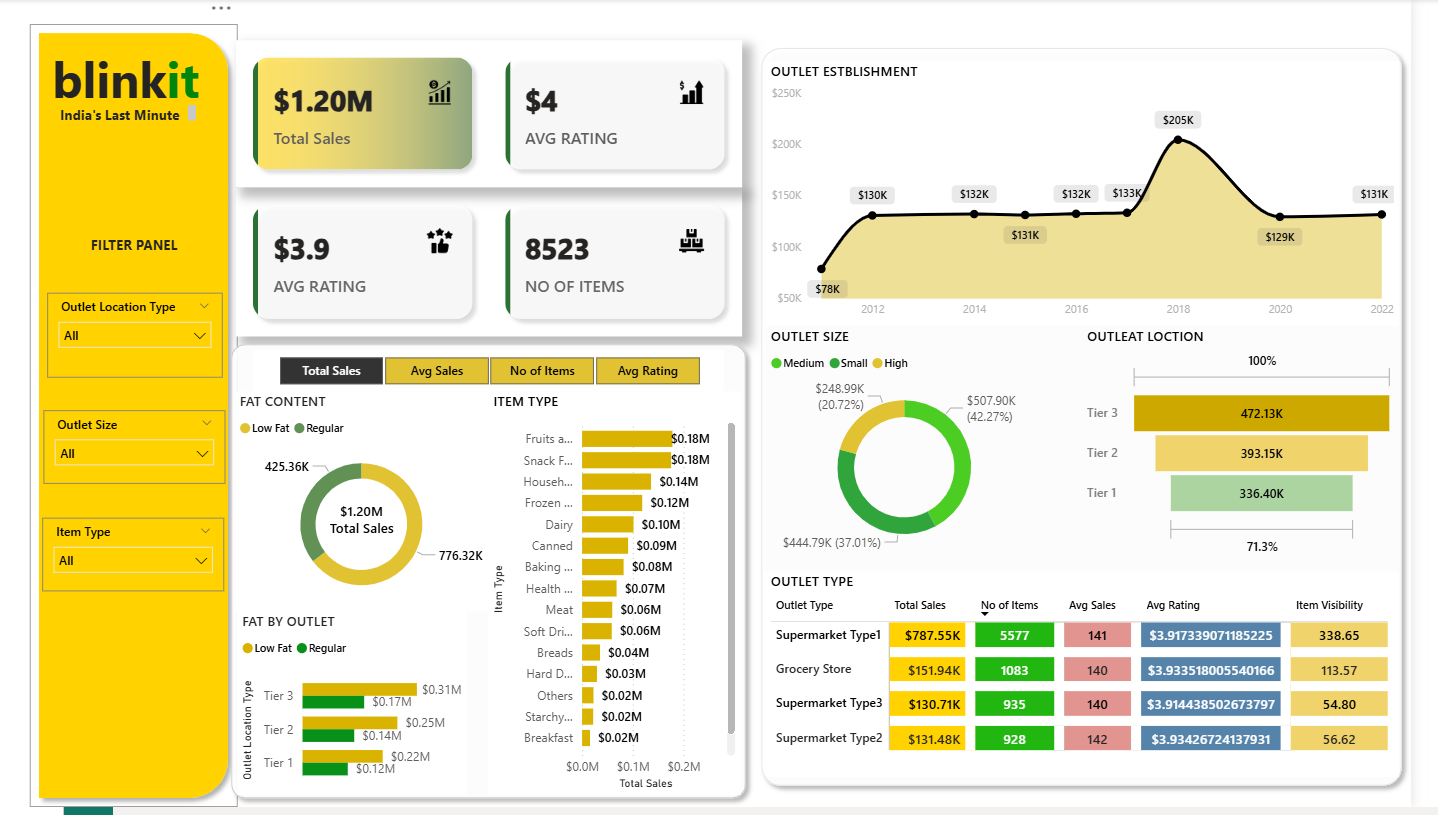

Layout of this report page (visuals, bound fields, positions):
{"tool":"powerbi","page":{"name":"Page 1","canvas":[1400,800],"ordinal":0},"visuals":[{"type":"shape","box":[33.1,25.2,205.1,774.8],"z":0},{"type":"textbox","box":[51.1,40.6,173,86.5],"z":1000},{"type":"textbox","box":[51.1,99.6,152.1,27.5],"z":2000},{"type":"cardVisual","fields":{"Data":["BlinkIT Grocery Data.Avg Rating","BlinkIT Grocery Data.No of Items"]},"box":[237.5,186.8,500.9,147.2],"z":3000},{"type":"cardVisual","fields":{"Data":["BlinkIT Grocery Data.Total Sales","BlinkIT Grocery Data.Avg Rating"]},"box":[237.5,40.8,500.9,145.9],"z":4000},{"type":"shape","box":[224.1,333,527.1,467.1],"z":5000},{"type":"donutChart","title":"FAT CONTENT","fields":{"Y":["Sum(BlinkIT Grocery Data.Sales)"],"Category":["BlinkIT Grocery Data.Item Fat Content"]},"box":[236.7,388.2,250.9,217.8],"z":6000},{"type":"slicer","fields":{"Values":["Matrics.Matrics"]},"box":[254.3,347.4,465.4,40.6],"z":7000},{"type":"cardVisual","fields":{"Data":["BlinkIT Grocery Data.Total Sales"]},"box":[312.9,479.9,98.9,69.3],"z":8000},{"type":"clusteredBarChart","title":"FAT BY OUTLET","fields":{"Y":["BlinkIT Grocery Data.Total Sales"],"Category":["BlinkIT Grocery Data.Outlet Location Type"],"Series":["BlinkIT Grocery Data.Item Fat Content"]},"box":[238.3,606,227.2,181.5],"z":9000},{"type":"barChart","title":"ITEM TYPE","fields":{"Y":["BlinkIT Grocery Data.Total Sales"],"Category":["BlinkIT Grocery Data.Item Type"]},"box":[487.6,388.2,249.3,399.2],"z":10000},{"type":"shape","box":[748,39.5,651.7,748],"z":11000},{"type":"lineChart","title":"OUTLET ESTBLISHMENT","fields":{"Category":["BlinkIT Grocery Data.Outlet Establishment Year"],"Y":["BlinkIT Grocery Data.Total Sales"]},"box":[762.2,61.5,626.5,262],"z":12000},{"type":"donutChart","title":"OUTLET SIZE","fields":{"Y":["BlinkIT Grocery Data.Total Sales"],"Category":["BlinkIT Grocery Data.Outlet Size"]},"box":[762.2,323.5,274,233.5],"z":13000},{"type":"funnel","title":"OUTLEAT LOCTION","fields":{"Y":["Sum(BlinkIT Grocery Data.Sales)"],"Category":["BlinkIT Grocery Data.Outlet Location Type"]},"box":[1074.6,323.5,314,233.5],"z":14000},{"type":"pivotTable","title":"OUTLET TYPE","fields":{"Rows":["BlinkIT Grocery Data.Outlet Type"],"Values":["BlinkIT Grocery Data.Total Sales","BlinkIT Grocery Data.No of Items","BlinkIT Grocery Data.Avg Sales","BlinkIT Grocery Data.Avg Rating","Sum(BlinkIT Grocery Data.Item Visibility)"]},"box":[762.2,566.5,626.5,203.6],"z":15000},{"type":"slicer","fields":{"Values":["BlinkIT Grocery Data.Outlet Location Type"]},"box":[50.5,290.4,173.6,83.6],"z":16000},{"type":"slicer","fields":{"Values":["BlinkIT Grocery Data.Outlet Size"]},"box":[47.3,407.1,179.9,72.6],"z":17000},{"type":"slicer","fields":{"Values":["BlinkIT Grocery Data.Item Type"]},"box":[45.8,512.9,179.9,72.6],"z":18000},{"type":"textbox","box":[64.7,228.8,145.2,31.6],"z":19000}]}

Visuals, with their boxes in screenshot pixels (x1, y1, x2, y2), scaled from the page's 1400x800 canvas onto the 1438x815 screenshot:
shape: rect(34, 26, 245, 814)
textbox: rect(52, 41, 230, 129)
textbox: rect(52, 101, 209, 129)
cardVisual - BlinkIT Grocery Data.Avg Rating x BlinkIT Grocery Data.No of Items: rect(244, 190, 758, 340)
cardVisual - BlinkIT Grocery Data.Total Sales x BlinkIT Grocery Data.Avg Rating: rect(244, 42, 758, 190)
shape: rect(230, 339, 772, 814)
"FAT CONTENT" donutChart: rect(243, 395, 501, 617)
slicer - Matrics.Matrics: rect(261, 354, 739, 395)
cardVisual - BlinkIT Grocery Data.Total Sales: rect(321, 489, 423, 559)
"FAT BY OUTLET" clusteredBarChart: rect(245, 617, 478, 802)
"ITEM TYPE" barChart: rect(501, 395, 757, 802)
shape: rect(768, 40, 1437, 802)
"OUTLET ESTBLISHMENT" lineChart: rect(783, 63, 1426, 330)
"OUTLET SIZE" donutChart: rect(783, 330, 1064, 567)
"OUTLEAT LOCTION" funnel: rect(1104, 330, 1426, 567)
"OUTLET TYPE" pivotTable: rect(783, 577, 1426, 785)
slicer - BlinkIT Grocery Data.Outlet Location Type: rect(52, 296, 230, 381)
slicer - BlinkIT Grocery Data.Outlet Size: rect(49, 415, 233, 489)
slicer - BlinkIT Grocery Data.Item Type: rect(47, 523, 232, 596)
textbox: rect(66, 233, 216, 265)
